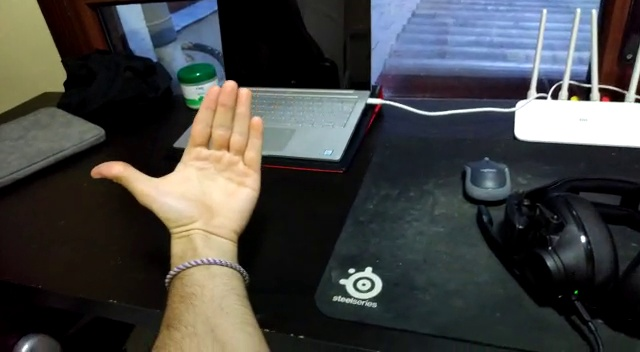Palm: (89, 78, 267, 260)
